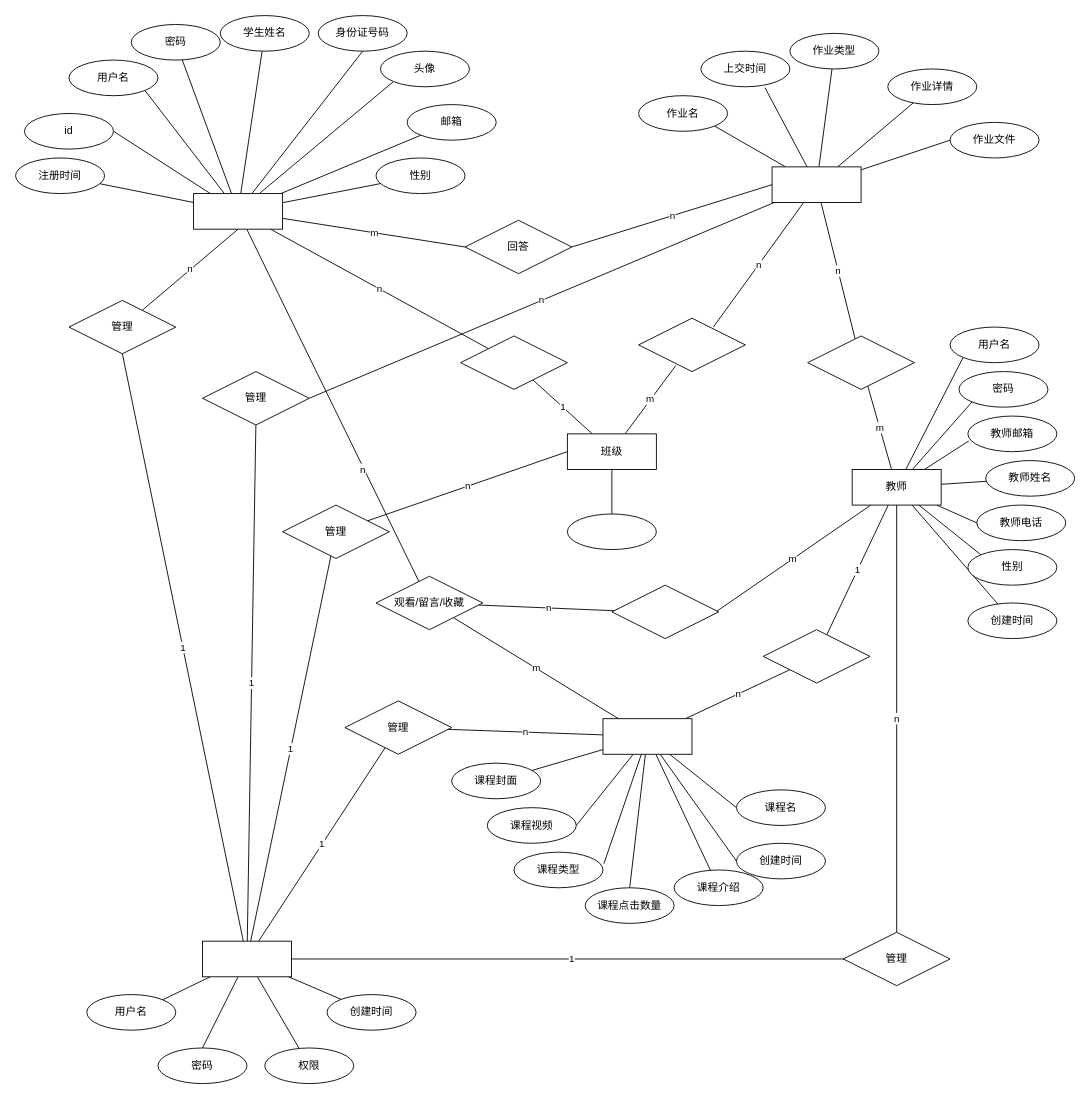
This 1090x1099 diagram has some shape labels left out. Here are the shapes that lost their labels. From the top down, the centre of each, then its label:
At point (816, 184): "作业".
At point (238, 211): "学生".
At point (513, 362): "属于".
At point (691, 344): "发布/上交".
At point (860, 362): "布置/批改".
At point (611, 531): "班级名".
At point (665, 611): "回复".
At point (816, 656): "发布".
At point (647, 736): "课程".
At point (246, 958): "管理员".
